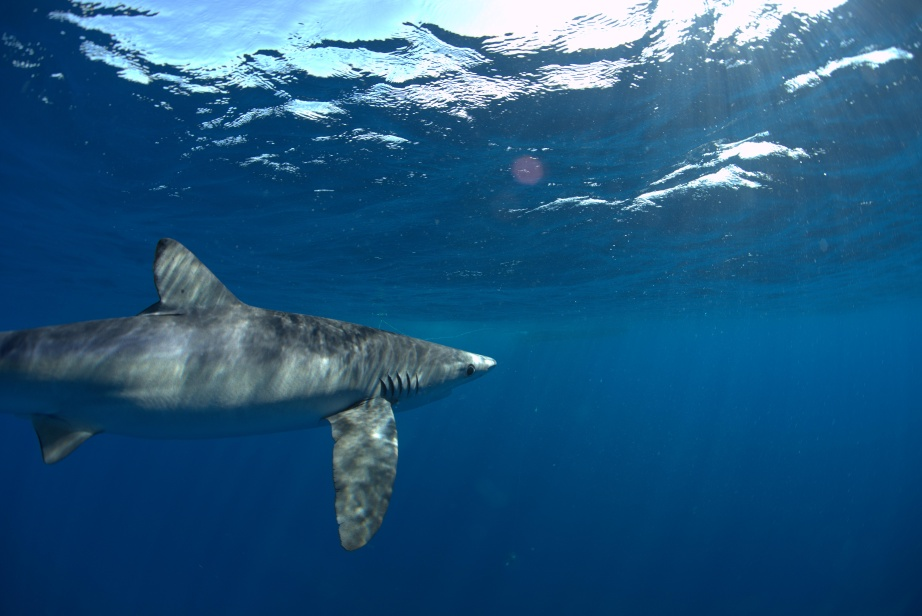Azul: (1, 205, 525, 563)
